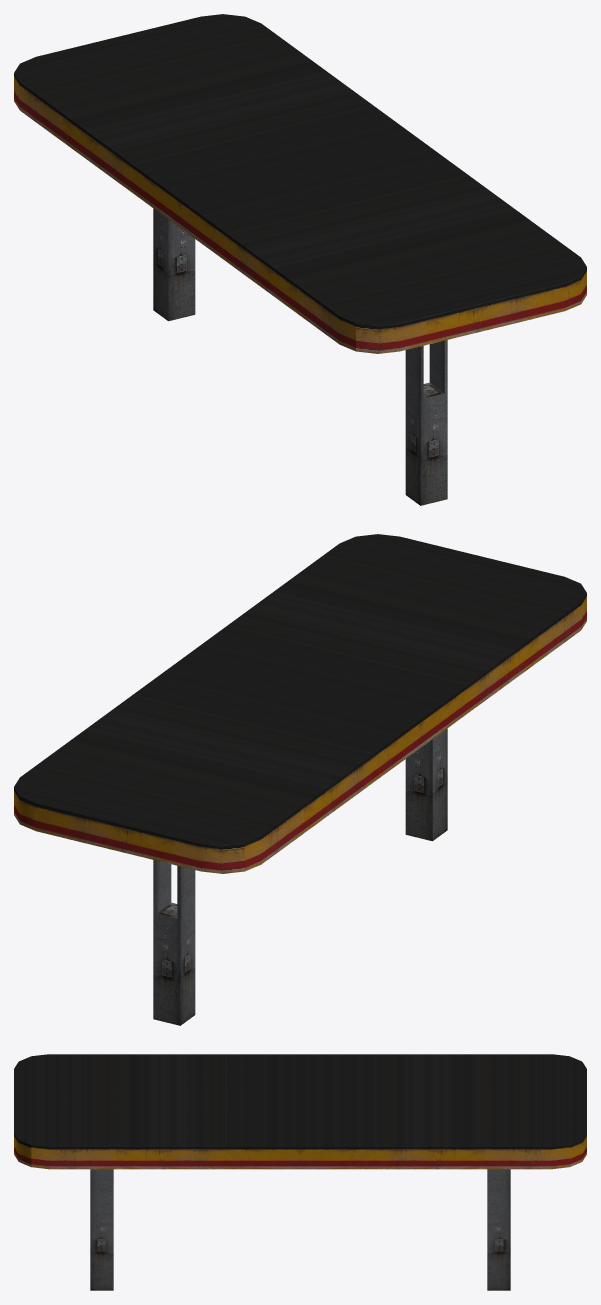
The model's file is Gas_Station_Ceiling.fbx.
The picture shows the model from 3 angles, top to bottom: view 1: azimuth 30°, elevation 25°; view 2: azimuth 150°, elevation 25°; view 3: azimuth 270°, elevation 25°; orthographic projection. The views are drawn at different scales.
Visible parts, largest first — view 1: GasStation_Ceiling; view 2: GasStation_Ceiling; view 3: GasStation_Ceiling.
Part boxes in pixels (x1,y1,x2,y2): GasStation_Ceiling: (14,14,586,505); GasStation_Ceiling: (14,534,586,1025); GasStation_Ceiling: (14,1054,586,1290).
Bounding box in the file's own units: 2.27 × 2.11 × 5.93.
Materials: 1 (1 with a texture image).
